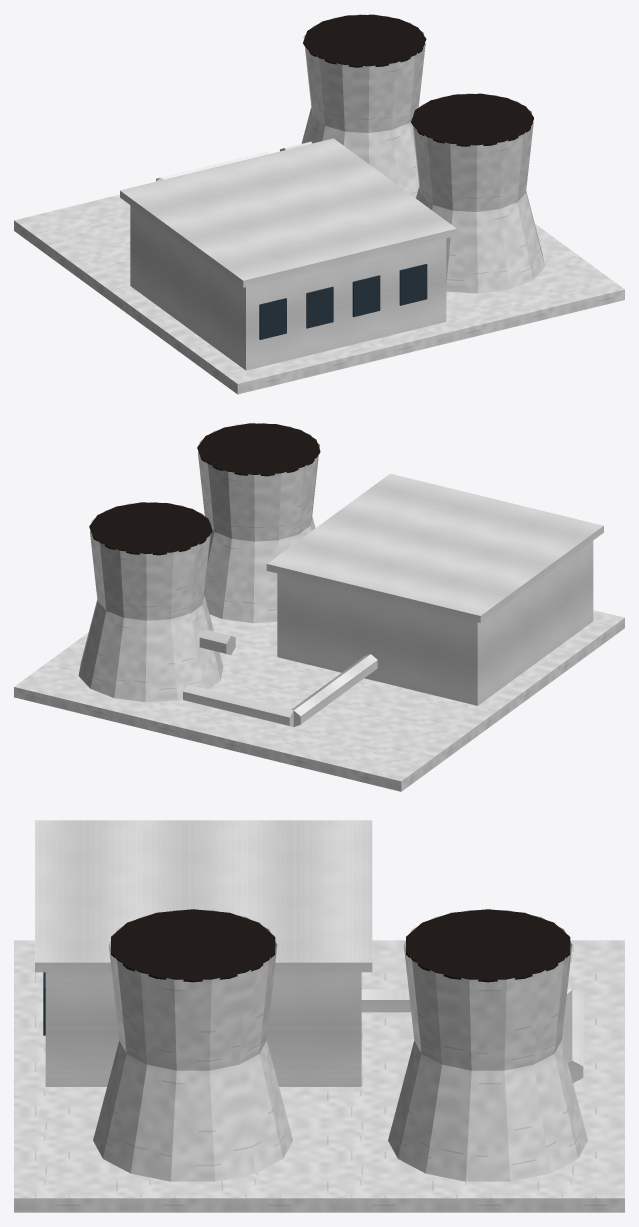
File: geothermal.obj
The picture shows the model from 3 angles, top to bottom: view 1: azimuth 30°, elevation 25°; view 2: azimuth 150°, elevation 25°; view 3: azimuth 270°, elevation 25°; orthographic projection. The views are drawn at different scales.
Parts seen in each view (by area): view 1: geothermal; view 2: geothermal; view 3: geothermal.
Boxes of the visible parts, box(x1,y1,x2,y2) form: geothermal: box(14, 14, 624, 394); geothermal: box(14, 423, 624, 791); geothermal: box(14, 820, 624, 1212).
Size of the model in its own units: 5.8 by 2.2 by 5.8.
